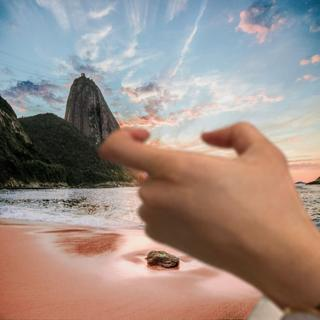HATE: (93, 119, 320, 282)
